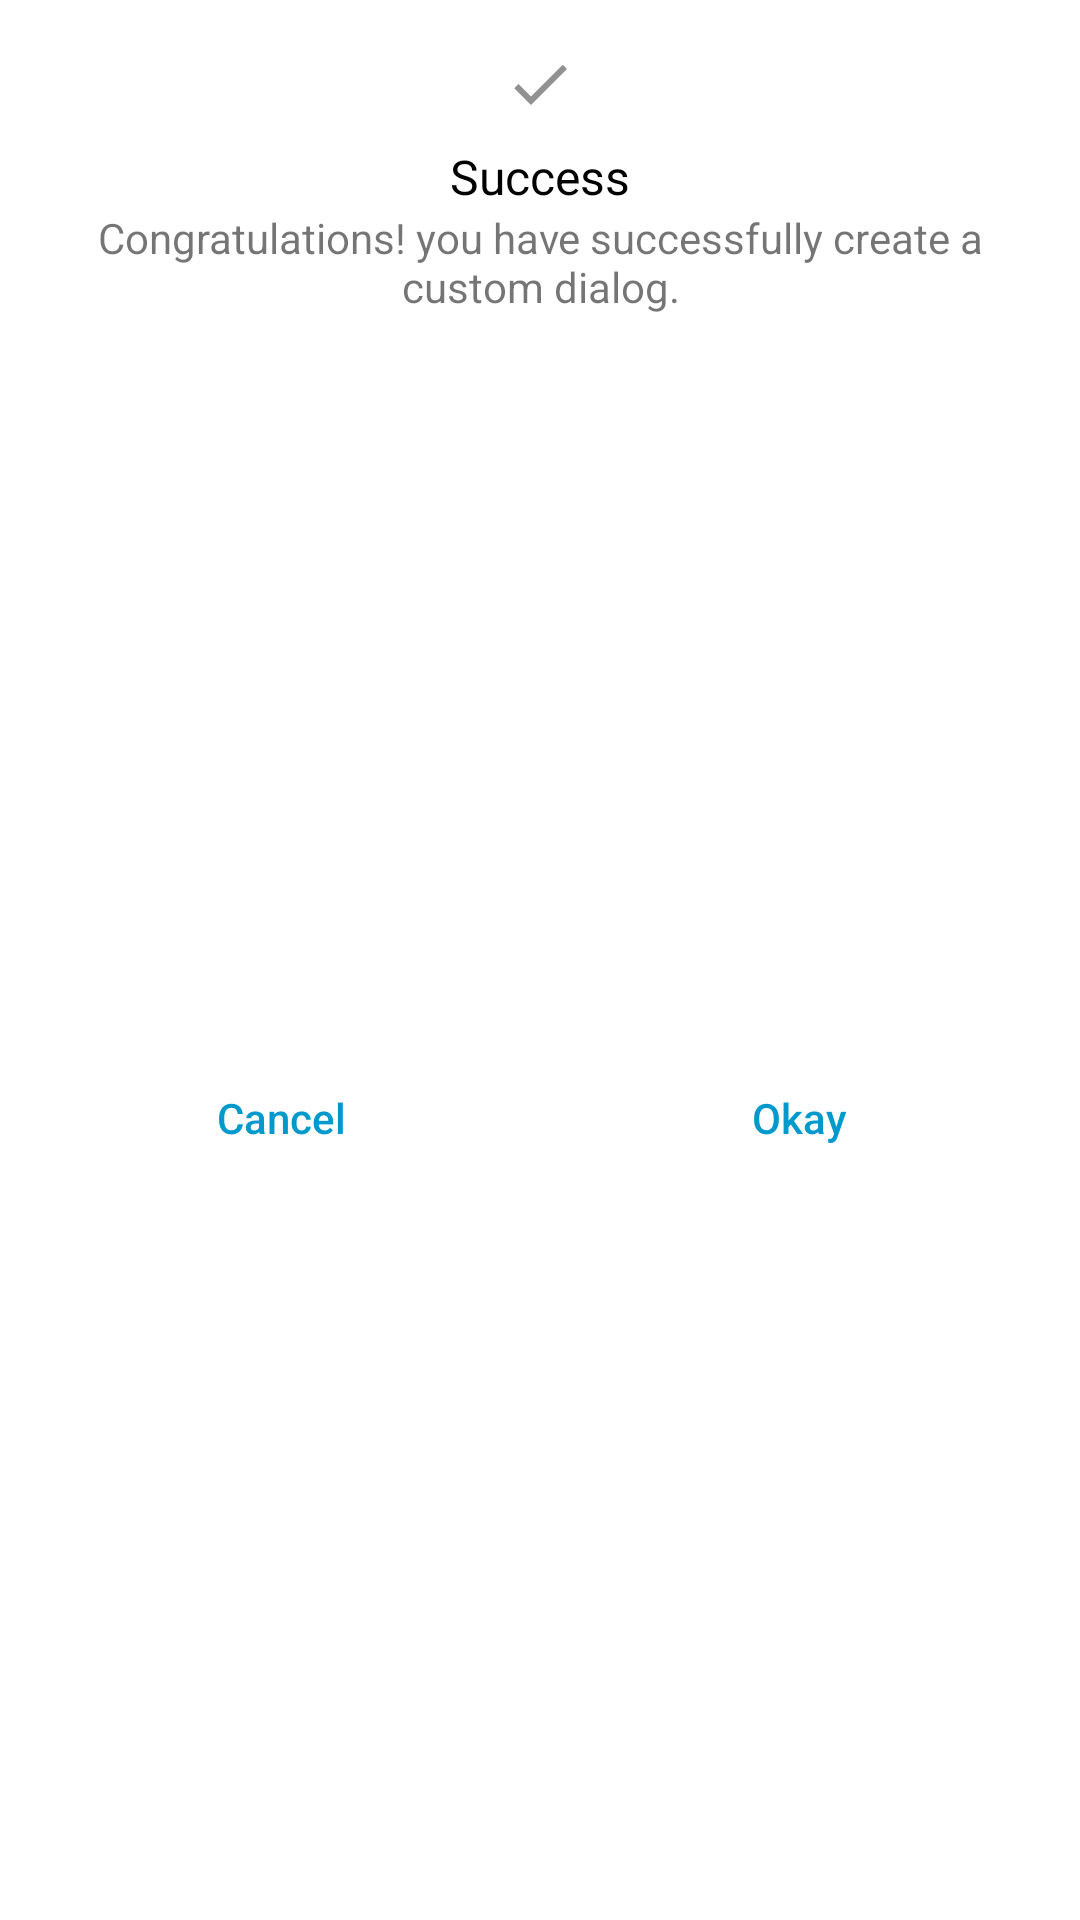

Point at icon controls on the screen. Image size 1080*1920, points as (x,y).
check: (540,85)
